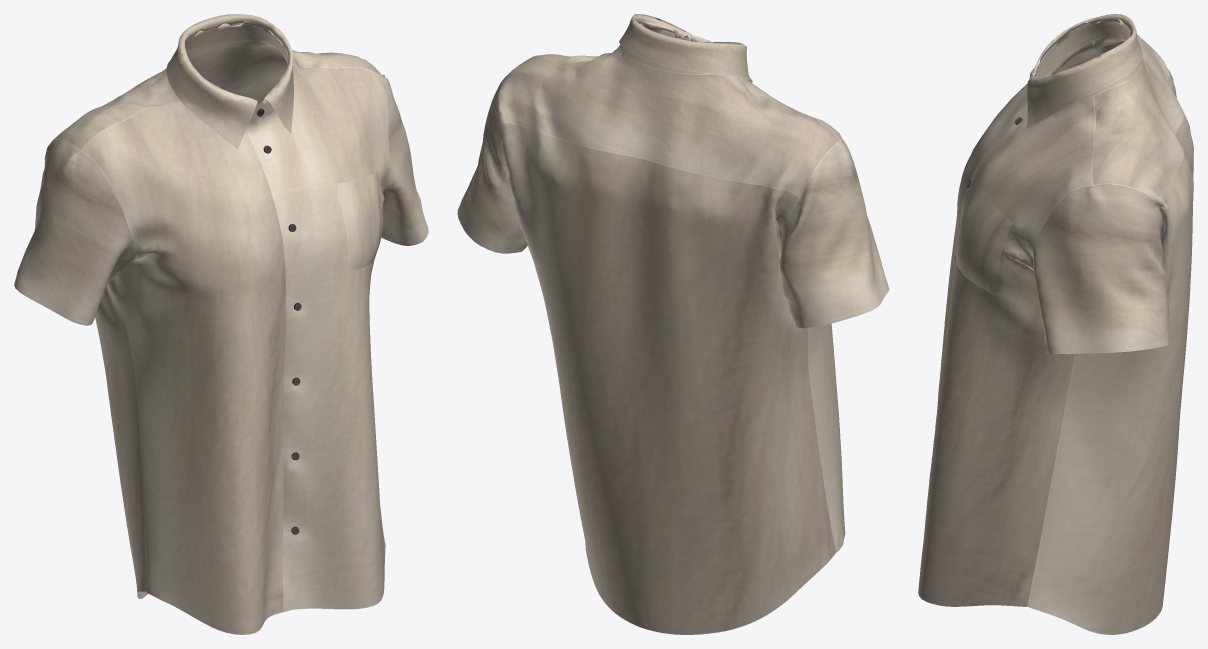
The model's file is Peach colour half sleeve shirt,Mapple-17fbx.fbx.
The picture shows the model from 3 angles, left to right: view 1: azimuth 30°, elevation 25°; view 2: azimuth 150°, elevation 25°; view 3: azimuth 270°, elevation 25°; orthographic projection. The views are drawn at different scales.
Parts seen in each view (by area): view 1: Peach colour half sleeve shirt,Mapple-17fbx; view 2: Peach colour half sleeve shirt,Mapple-17fbx; view 3: Peach colour half sleeve shirt,Mapple-17fbx.
Boxes of the visible parts, box(x1,y1,x2,y2) form: Peach colour half sleeve shirt,Mapple-17fbx: box(14, 14, 428, 634); Peach colour half sleeve shirt,Mapple-17fbx: box(457, 14, 889, 634); Peach colour half sleeve shirt,Mapple-17fbx: box(918, 14, 1193, 634).
Bounding box in the file's own units: 22.88 × 30.95 × 13.37.
7 materials, 7 textured.
